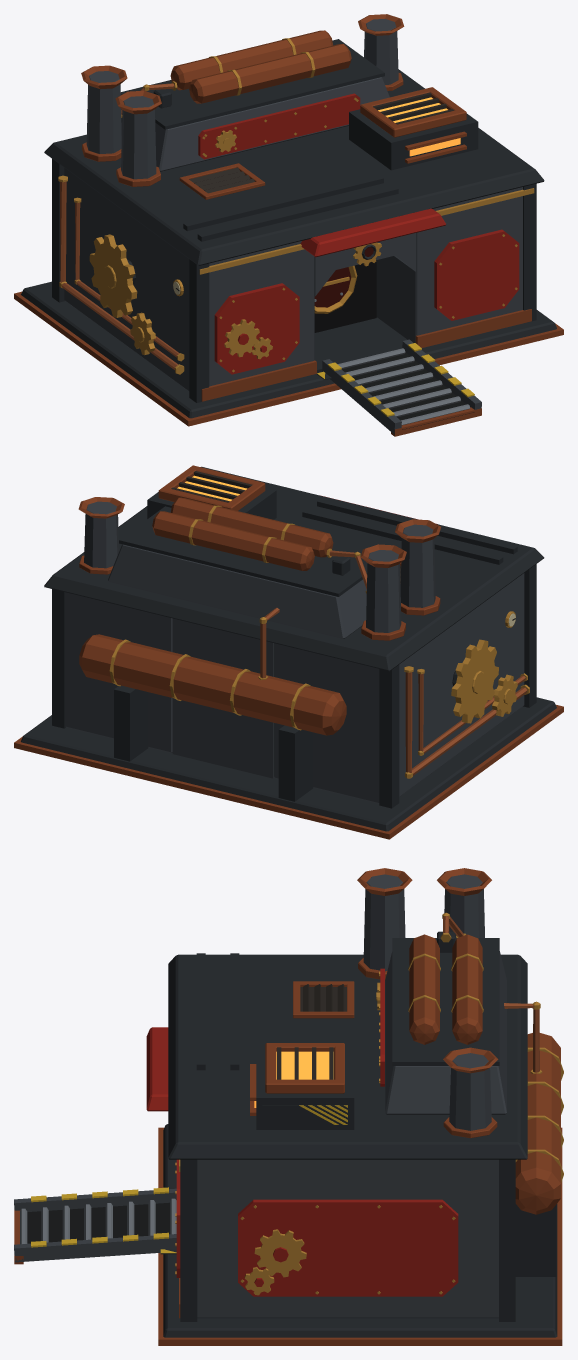
File: fabricator.fbx
3 renders of one model, top to bottom at view 1: azimuth 30°, elevation 25°; view 2: azimuth 150°, elevation 25°; view 3: azimuth 270°, elevation 25°, orthographic. The views are drawn at different scales.
Visible parts, largest first — view 1: Body, Vent; view 2: Body; view 3: Body, Vent.
Part boxes in pixels (bbox=[...]): Body: bbox=[14, 14, 563, 436]; Vent: bbox=[378, 97, 460, 156]; Body: bbox=[14, 465, 563, 839]; Body: bbox=[14, 868, 563, 1345]; Vent: bbox=[254, 1051, 333, 1107].
Bounding box in the file's own units: 16.4 × 10.18 × 17.96.
Materials: 2 (1 with a texture image).
